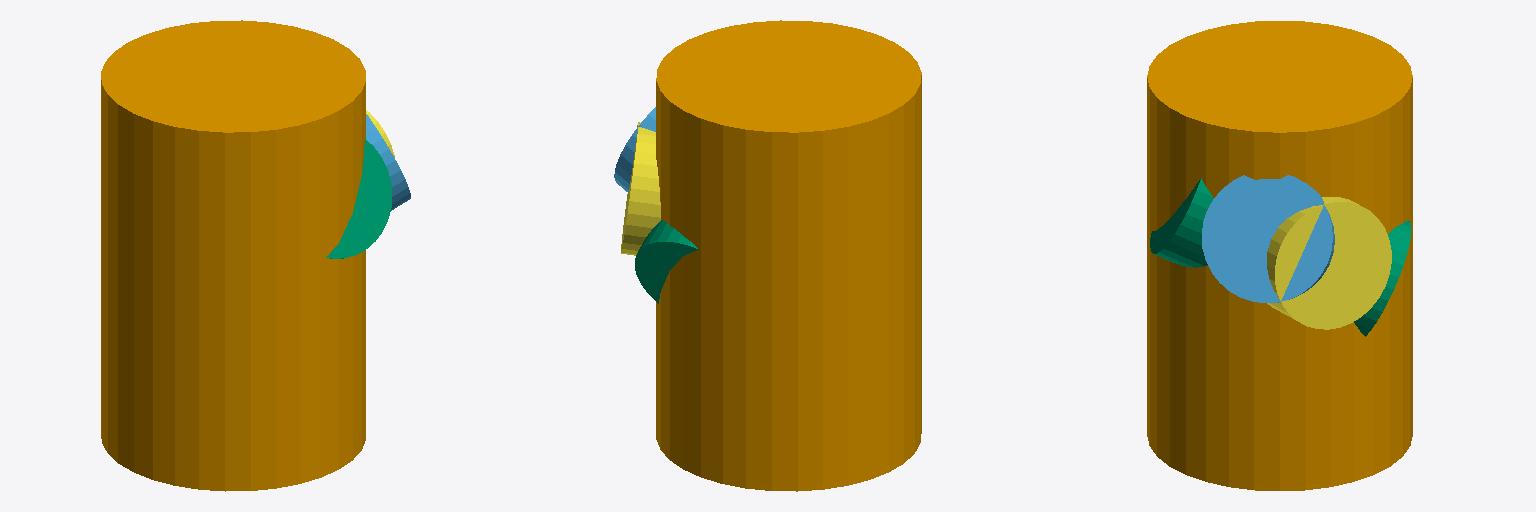
The robot description file, URDF, robot "pepe":
<?xml version="1.0"?><robot name="pepe">
	<link name="0">
		<visual>
			<geometry>
				<cylinder length="2.9780468539074367" radius="0.9999"/>
			</geometry>
		</visual>
		<collision>
			<geometry>
				<cylinder length="2.9780468539074367" radius="0.9999"/>
			</geometry>
		</collision>
		<inertial>
			<mass value="9.353939049816244"/>
			<inertia ixx="0.03" iyy="0.03" izz="0.03" ixy="0" ixz="0" iyx="0"/>
		</inertial>
	</link>
	<link name="11">
		<visual>
			<geometry>
				<cylinder length="1.7015691212304325" radius="0.4984303355298406"/>
			</geometry>
		</visual>
		<collision>
			<geometry>
				<cylinder length="1.7015691212304325" radius="0.4984303355298406"/>
			</geometry>
		</collision>
		<inertial>
			<mass value="1.3280315769885311"/>
			<inertia ixx="0.03" iyy="0.03" izz="0.03" ixy="0" ixz="0" iyx="0"/>
		</inertial>
	</link>
	<link name="12">
		<visual>
			<geometry>
				<cylinder length="1.7015691212304325" radius="0.4984303355298406"/>
			</geometry>
		</visual>
		<collision>
			<geometry>
				<cylinder length="1.7015691212304325" radius="0.4984303355298406"/>
			</geometry>
		</collision>
		<inertial>
			<mass value="1.3280315769885311"/>
			<inertia ixx="0.03" iyy="0.03" izz="0.03" ixy="0" ixz="0" iyx="0"/>
		</inertial>
	</link>
	<link name="13">
		<visual>
			<geometry>
				<cylinder length="1.7015691212304325" radius="0.4984303355298406"/>
			</geometry>
		</visual>
		<collision>
			<geometry>
				<cylinder length="1.7015691212304325" radius="0.4984303355298406"/>
			</geometry>
		</collision>
		<inertial>
			<mass value="1.3280315769885311"/>
			<inertia ixx="0.03" iyy="0.03" izz="0.03" ixy="0" ixz="0" iyx="0"/>
		</inertial>
	</link>
	<joint name="11_to_0" type="revolute">
		<parent link="0"/>
		<child link="11"/>
		<axis xyz="0 0 1"/>
		<limit effort="1" upper="-3.1415" lower="3.1415" velocity="1"/>
		<origin rpy="8.760935750398462 1.0127527133895813 5.405819461330697" xyz="0.4071502539978227 0.006249269802823254 0.3482969465694927"/>
	</joint>
	<joint name="12_to_0" type="revolute">
		<parent link="0"/>
		<child link="12"/>
		<axis xyz="0 0 1"/>
		<limit effort="1" upper="-3.1415" lower="3.1415" velocity="1"/>
		<origin rpy="13.141403625597693 1.0127527133895813 5.405819461330697" xyz="0.4071502539978227 0.006249269802823254 0.3482969465694927"/>
	</joint>
	<joint name="13_to_0" type="revolute">
		<parent link="0"/>
		<child link="13"/>
		<axis xyz="0 0 1"/>
		<limit effort="1" upper="-3.1415" lower="3.1415" velocity="1"/>
		<origin rpy="17.521871500796923 1.0127527133895813 5.405819461330697" xyz="0.4071502539978227 0.006249269802823254 0.3482969465694927"/>
	</joint>
</robot>

--- Render facts (derived) ---
The picture shows the robot from 3 angles, left to right: view 1: azimuth 30°, elevation 25°; view 2: azimuth 150°, elevation 25°; view 3: azimuth 270°, elevation 25°; orthographic projection.
Robot: pepe — 4 links, 3 joints (3 revolute); root link 0; default pose: every joint at zero.
Visible links, largest first — view 1: 0, 12, 11; view 2: 0, 13, 12, 11; view 3: 0, 11, 13, 12.
Boxes of the visible links, box(x1,y1,x2,y2) form: 0: box(101, 20, 365, 491); 12: box(326, 139, 391, 258); 11: box(366, 114, 410, 210); 0: box(656, 20, 921, 491); 13: box(621, 122, 660, 255); 12: box(635, 220, 698, 303); 11: box(614, 107, 655, 191); 0: box(1147, 21, 1412, 490); 11: box(1202, 175, 1334, 302); 13: box(1267, 197, 1391, 329); 12: box(1150, 178, 1411, 336).
Size in the robot's own frame: 2.39 by 2 by 2.98 metres.
Geometry: primitives only (box / cylinder / sphere), no mesh files.
